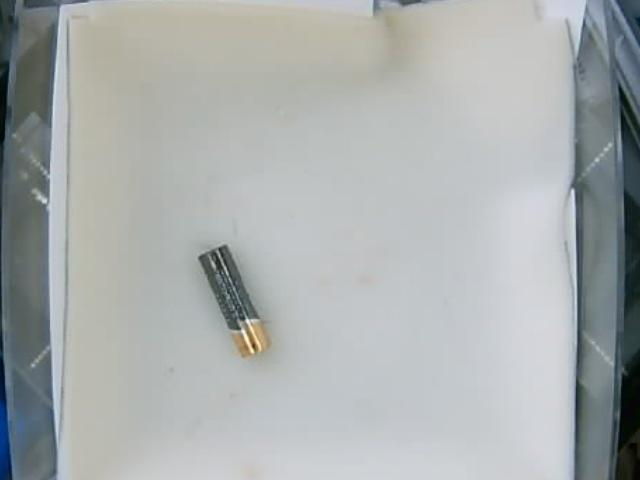Battery: (198, 242, 268, 359)
